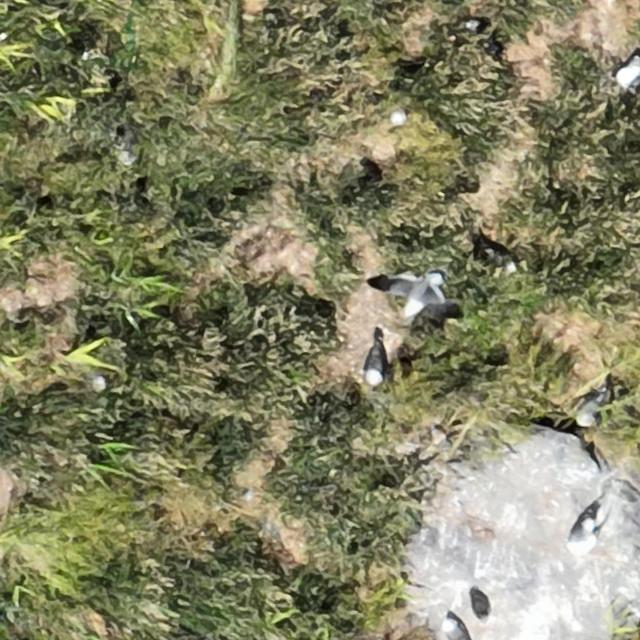F: (397, 271, 447, 315)
umineko: (578, 385, 612, 428), (569, 512, 601, 552), (491, 248, 518, 274), (366, 348, 385, 384), (472, 591, 488, 620)
